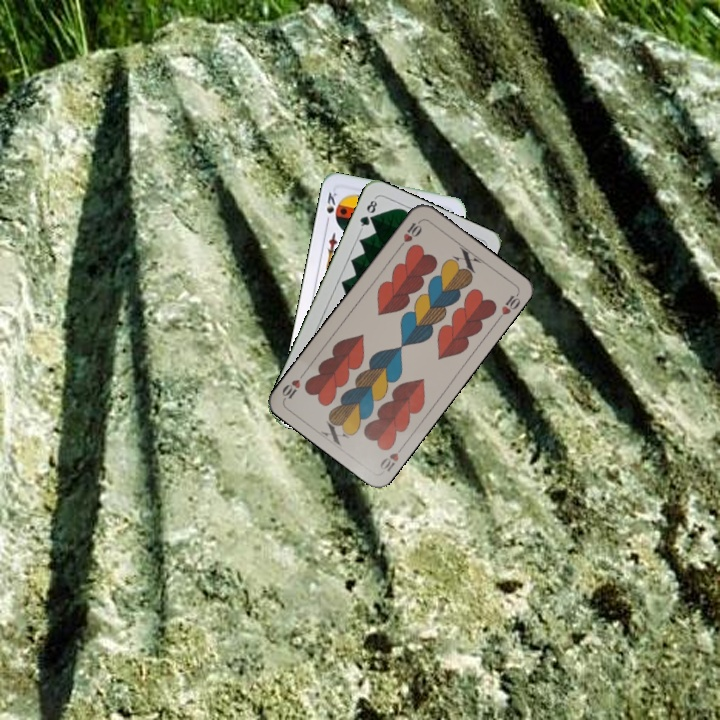G8: (356, 194, 380, 233)
H10: (395, 216, 425, 251), (376, 441, 407, 474)
SK: (322, 188, 341, 227)
